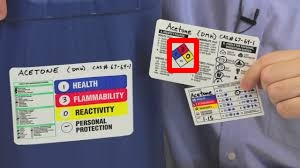nfpa: (169, 40, 196, 70)
